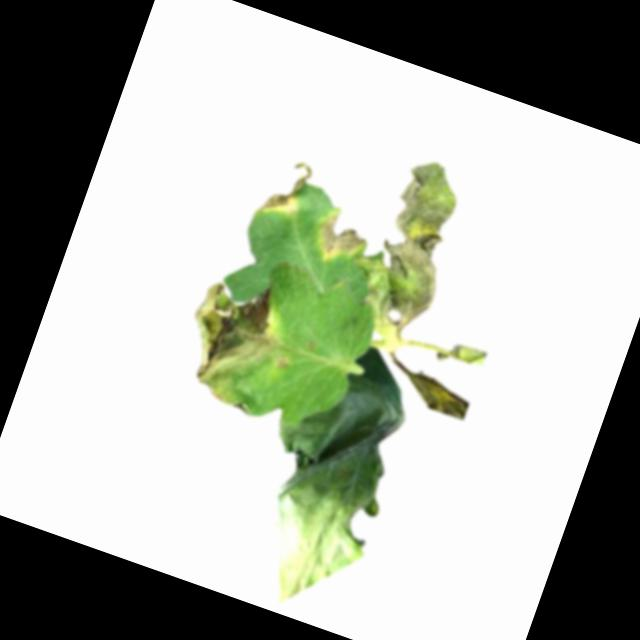Late_blight: (227, 328, 433, 626), (341, 150, 474, 343), (169, 267, 291, 413), (256, 153, 317, 223), (312, 203, 374, 265)
